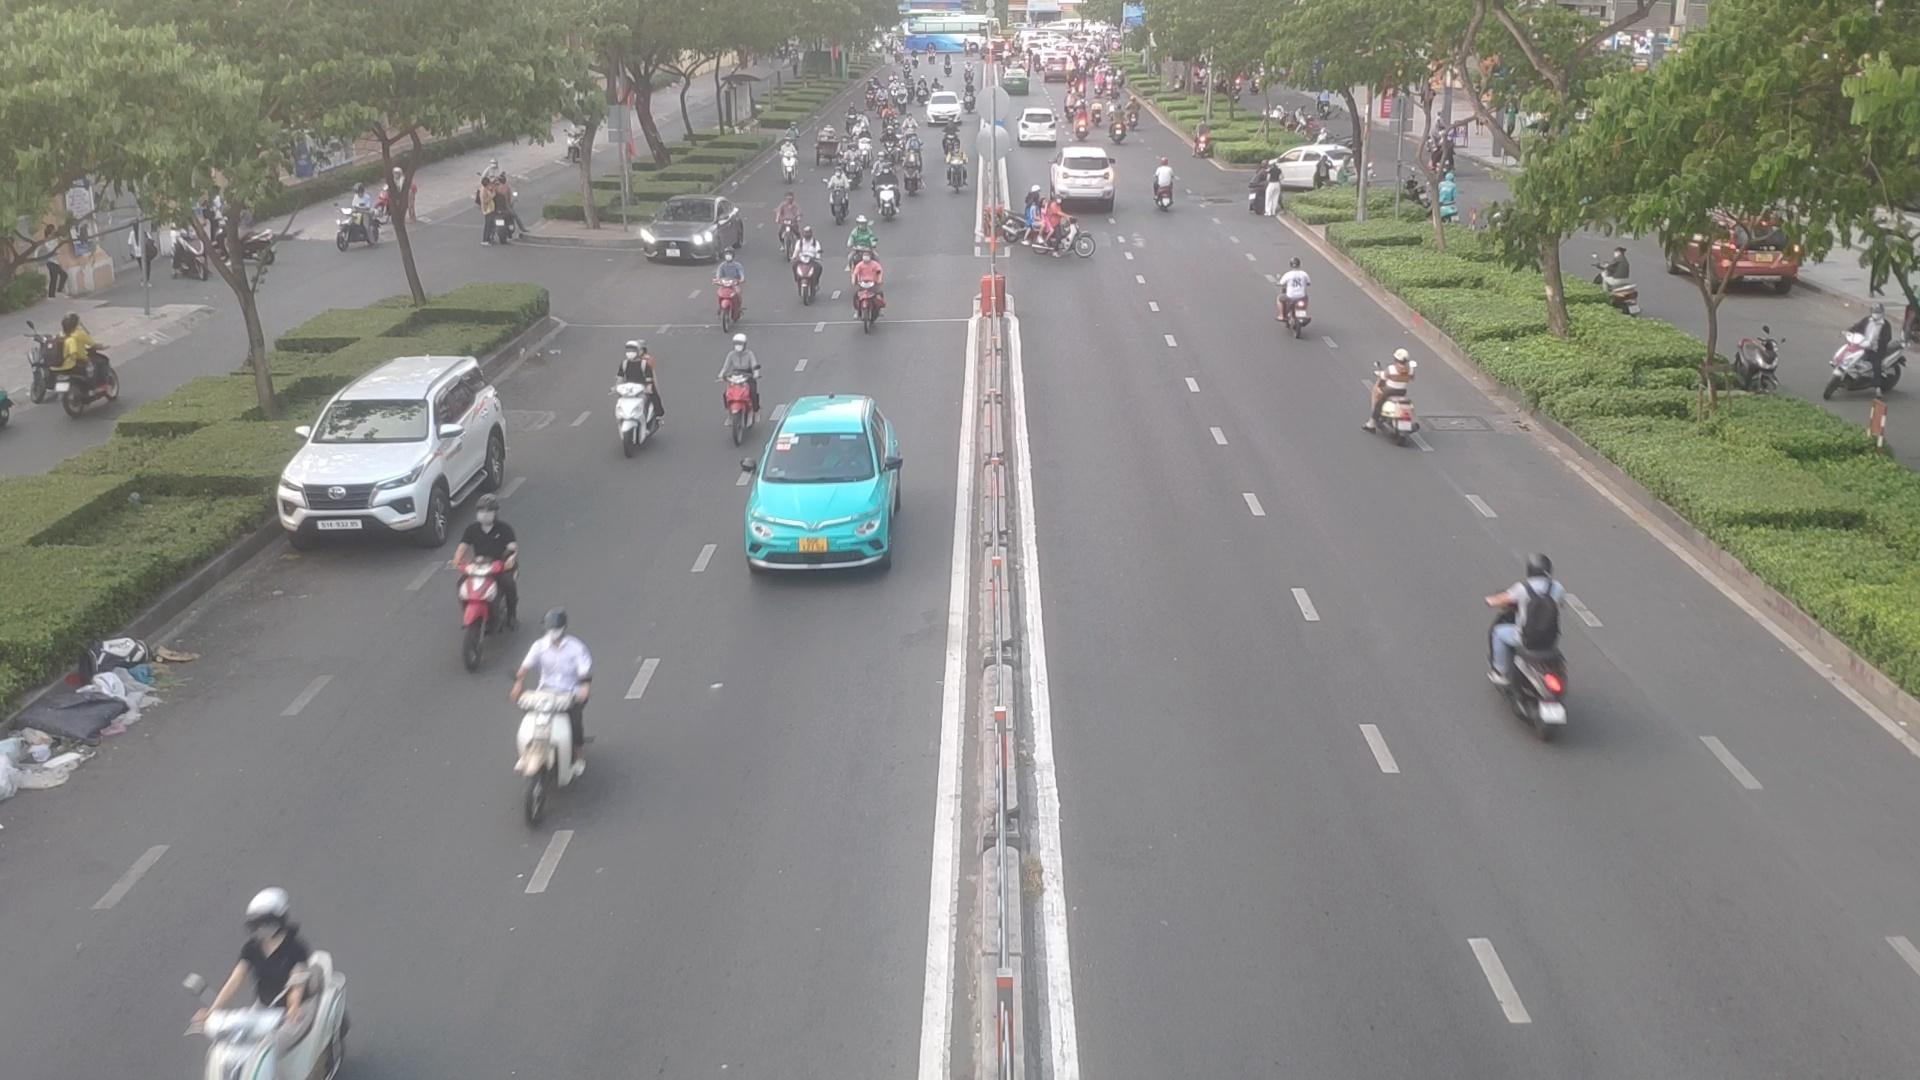car: (276, 357, 516, 550), (746, 398, 906, 568), (634, 196, 742, 264), (1261, 135, 1373, 196), (1055, 146, 1120, 204)
motorbike: (152, 884, 351, 1080), (1461, 559, 1576, 749), (512, 612, 597, 795), (448, 496, 514, 669), (620, 331, 674, 464), (1017, 195, 1098, 269), (1371, 356, 1419, 446), (1276, 248, 1309, 338), (713, 255, 742, 335), (793, 225, 822, 302), (731, 340, 753, 438), (1149, 152, 1179, 222), (847, 219, 876, 272), (778, 202, 803, 256), (824, 167, 848, 222), (874, 165, 899, 214), (901, 146, 920, 195), (851, 255, 866, 315), (775, 138, 796, 181), (948, 146, 968, 191), (844, 144, 861, 189), (940, 123, 960, 160), (881, 124, 898, 165)
